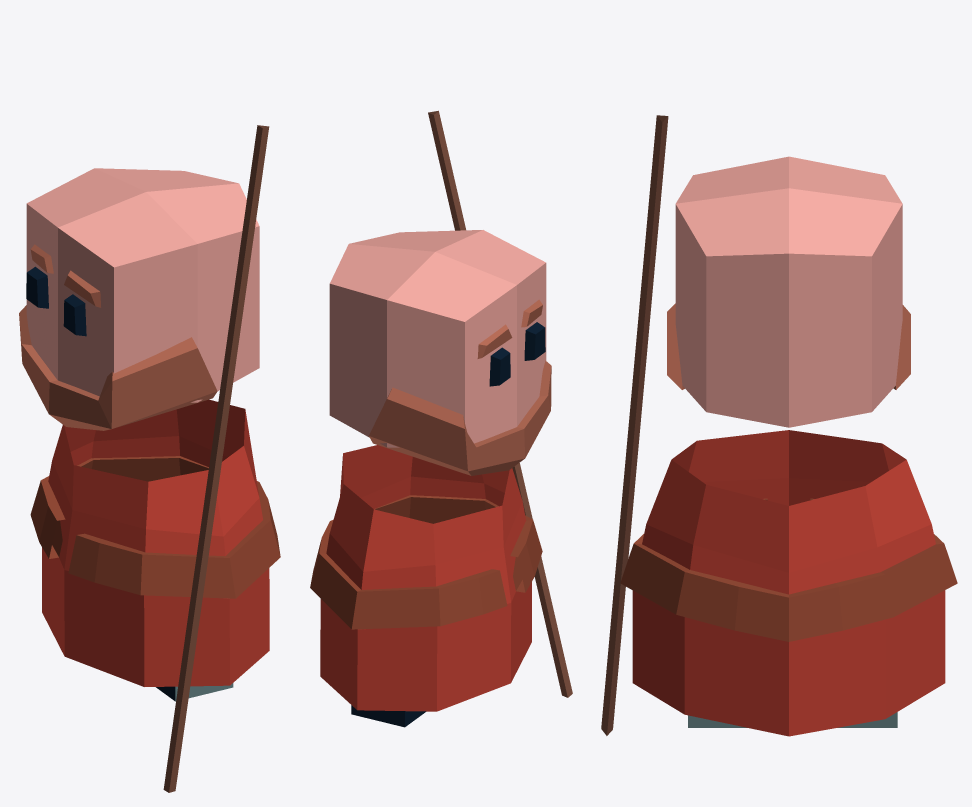
File: SK_Soldier.fbx
3 renders of one model, left to right at view 1: azimuth 30°, elevation 25°; view 2: azimuth 150°, elevation 25°; view 3: azimuth 270°, elevation 25°, orthographic. The views are drawn at different scales.
Visible parts, largest first — view 1: SK_Soldier; view 2: SK_Soldier; view 3: SK_Soldier.
Boxes of the visible parts, x1,y1,x2,y2 form: SK_Soldier: [19, 125, 280, 792]; SK_Soldier: [310, 110, 572, 727]; SK_Soldier: [601, 115, 957, 736].
Size of the model in its own units: 57.82 by 179 by 72.88.
